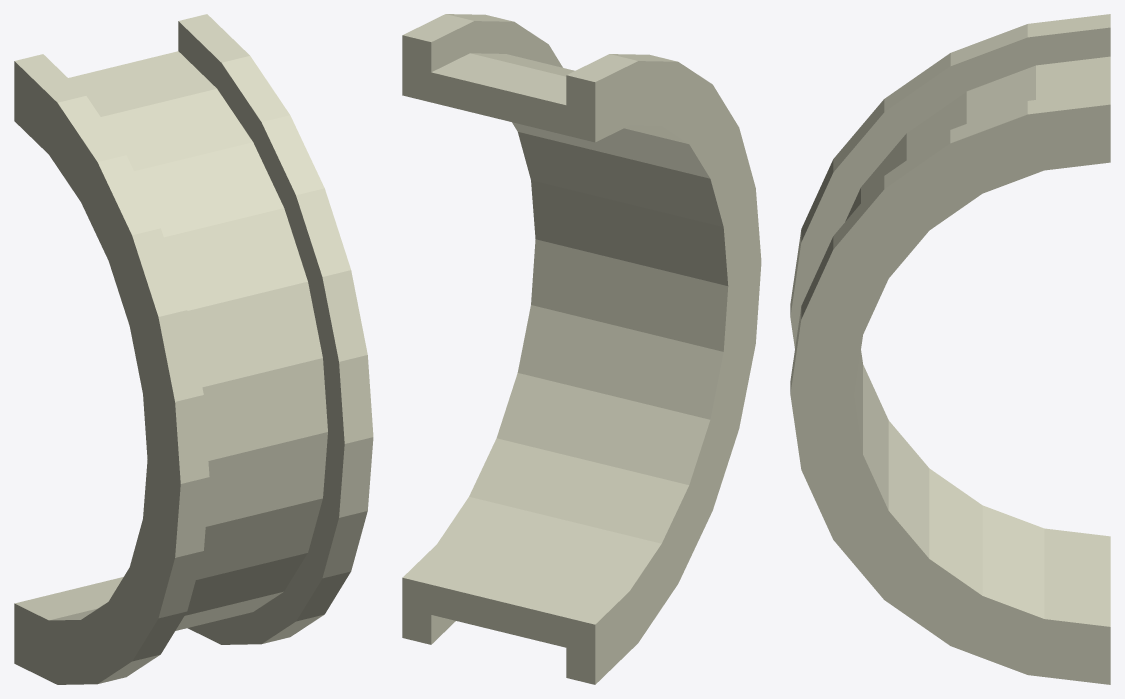
The model's file is section_221.obj.
3 views of the same model, side by side, from view 1: azimuth 30°, elevation 25°; view 2: azimuth 150°, elevation 25°; view 3: azimuth 270°, elevation 25° (orthographic). The views are drawn at different scales.
Size of the model in its own units: 6.69 by 20 by 10.
